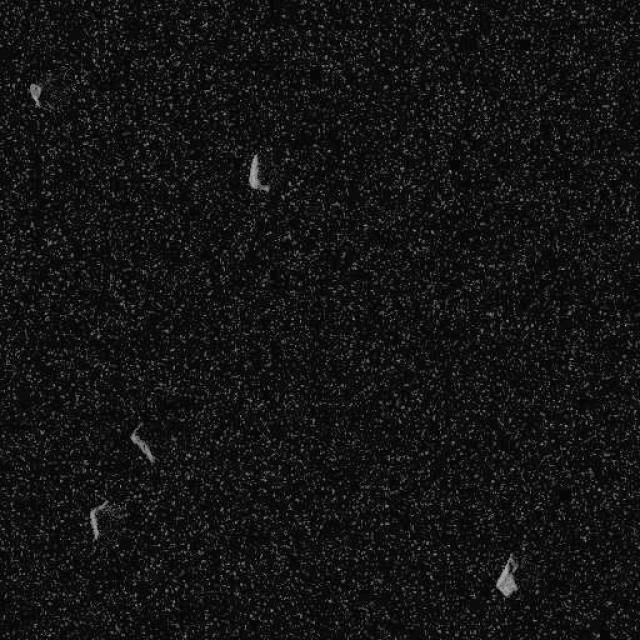D2: (128, 421, 156, 465), (494, 554, 518, 598), (88, 498, 110, 542), (246, 152, 270, 192), (27, 82, 42, 106)
